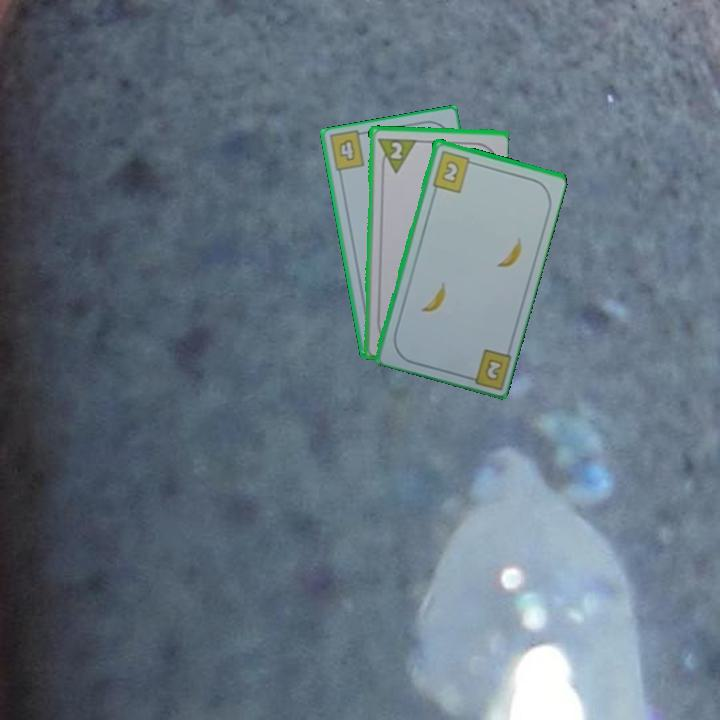2b: (429, 147, 478, 195), (461, 345, 513, 390)
2p: (373, 134, 417, 175)
4b: (335, 135, 358, 164)
